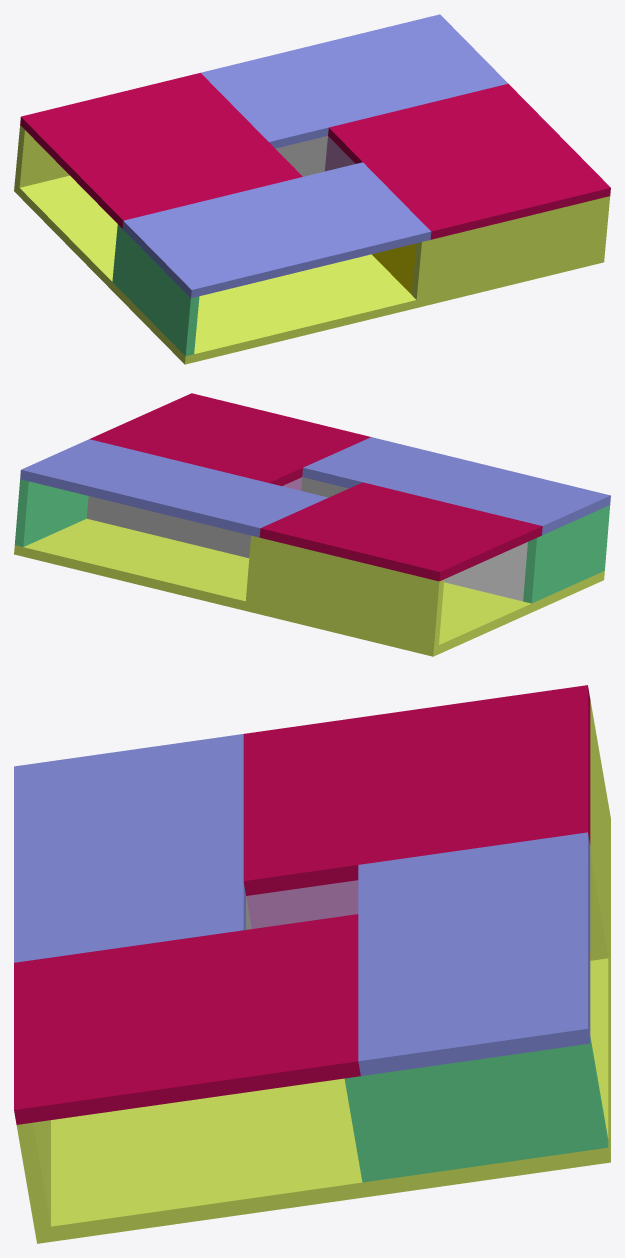
Rendered from table_assembled.glb.
3 views of the same model, one above another, from view 1: azimuth 30°, elevation 25°; view 2: azimuth 150°, elevation 25°; view 3: azimuth 270°, elevation 25° (orthographic). The views are drawn at different scales.
Visible parts, largest first — view 1: mesh_id31, mesh_id13, mesh_id29, mesh_id32, mesh_id30, mesh_id16, mesh_id28, mesh_id25, mesh_id24, mesh_id23, mesh_id26, mesh_id27 (+10 smaller); view 2: mesh_id12, mesh_id22, mesh_id30, mesh_id32, mesh_id31, mesh_id28, mesh_id29, mesh_id15, mesh_id27, mesh_id26, mesh_id25, mesh_id23 (+8 smaller); view 3: mesh_id14, mesh_id30, mesh_id29, mesh_id32, mesh_id31, mesh_id23, mesh_id26, mesh_id27, mesh_id28, mesh_id24, mesh_id25, mesh_id18 (+9 smaller).
Part boxes in pixels (left/top/right/bottom): mesh_id31: left=156, top=197, right=431, bottom=298; mesh_id13: left=411, top=196, right=610, bottom=299; mesh_id29: left=235, top=49, right=507, bottom=148; mesh_id32: left=122, top=162, right=396, bottom=262; mesh_id30: left=201, top=14, right=473, bottom=107; mesh_id16: left=160, top=254, right=604, bottom=364; mesh_id28: left=20, top=102, right=182, bottom=228; mesh_id25: left=328, top=113, right=490, bottom=239; mesh_id24: left=389, top=98, right=550, bottom=225; mesh_id23: left=449, top=83, right=610, bottom=210; mesh_id26: left=141, top=73, right=302, bottom=191; mesh_id27: left=81, top=87, right=242, bottom=205; mesh_id12: left=246, top=535, right=444, bottom=647; mesh_id22: left=14, top=536, right=458, bottom=656; mesh_id30: left=20, top=454, right=293, bottom=537; mesh_id32: left=302, top=452, right=576, bottom=535; mesh_id31: left=337, top=437, right=610, bottom=519; mesh_id28: left=379, top=511, right=542, bottom=581; mesh_id29: left=55, top=439, right=328, bottom=512; mesh_id15: left=523, top=505, right=610, bottom=603; mesh_id27: left=319, top=497, right=482, bottom=566; mesh_id26: left=259, top=482, right=421, bottom=552; mesh_id25: left=209, top=422, right=370, bottom=485; mesh_id23: left=89, top=393, right=251, bottom=453; mesh_id14: left=344, top=1037, right=608, bottom=1182; mesh_id30: left=473, top=832, right=590, bottom=1059; mesh_id29: left=358, top=848, right=475, bottom=1075; mesh_id32: left=128, top=734, right=245, bottom=946; mesh_id31: left=14, top=750, right=128, bottom=962; mesh_id23: left=14, top=1012, right=360, bottom=1124; mesh_id26: left=243, top=783, right=590, bottom=895; mesh_id27: left=243, top=734, right=590, bottom=831; mesh_id28: left=243, top=685, right=590, bottom=782; mesh_id24: left=14, top=963, right=358, bottom=1060; mesh_id25: left=14, top=914, right=358, bottom=1011; mesh_id18: left=198, top=1087, right=282, bottom=1220.
Bounding box in the file's own units: 0.512 × 0.1494 × 0.3759.
